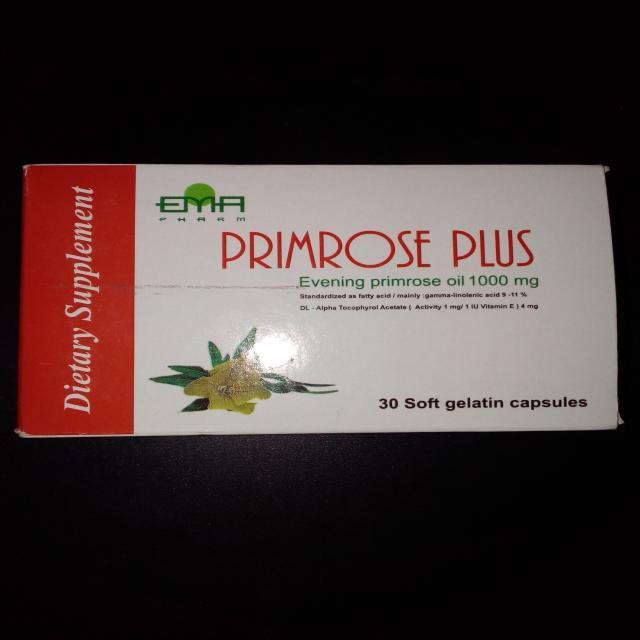Medicine Name: (205, 226, 565, 273)
